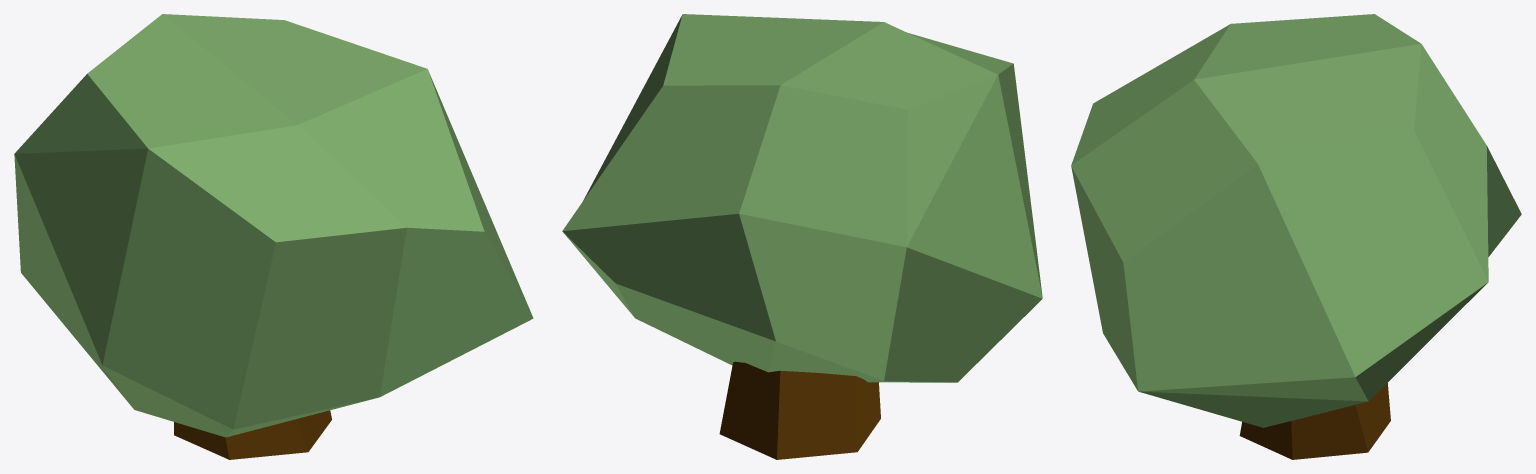
File: shrubtree1.fbx
The picture shows the model from 3 angles, left to right: view 1: azimuth 30°, elevation 25°; view 2: azimuth 150°, elevation 25°; view 3: azimuth 270°, elevation 25°; orthographic projection. The views are drawn at different scales.
Visible parts, largest first — view 1: polySurface199; view 2: polySurface199; view 3: polySurface199.
Part boxes in pixels (x1,y1,x2,y2): polySurface199: [14, 14, 533, 459]; polySurface199: [562, 14, 1042, 459]; polySurface199: [1071, 14, 1521, 459].
Bounding box in the file's own units: 0.732 × 0.6663 × 0.74.
